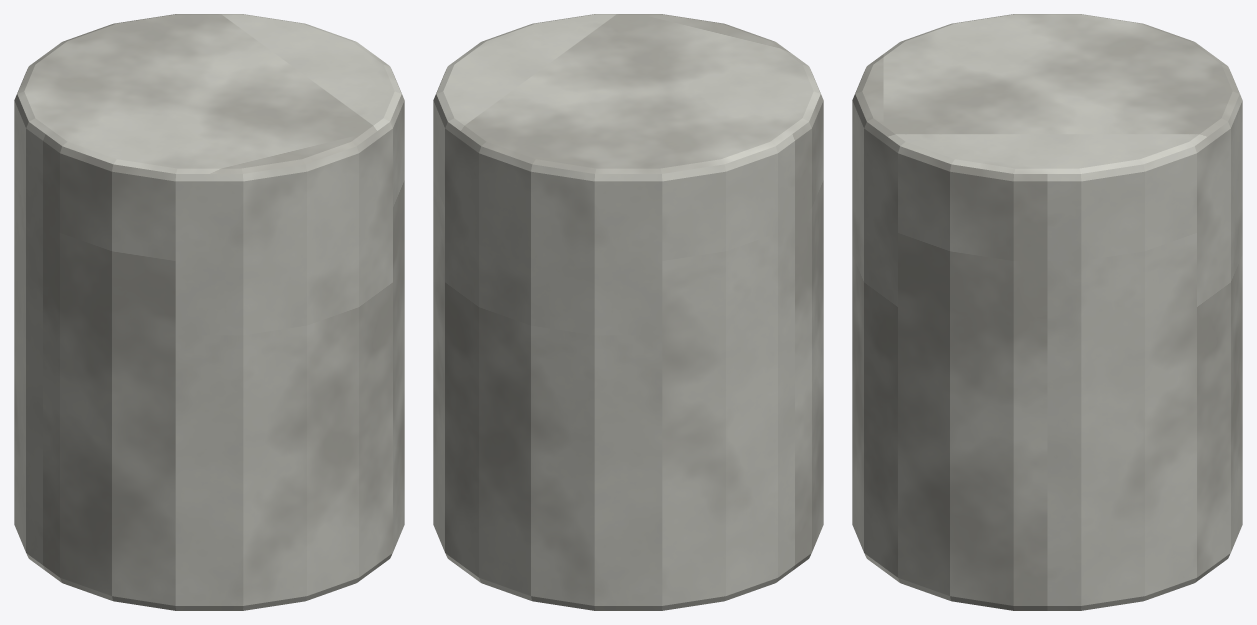
File: Y02_beakers_flasks_v1.glb
3 renders of one model, left to right at view 1: azimuth 30°, elevation 25°; view 2: azimuth 150°, elevation 25°; view 3: azimuth 270°, elevation 25°, orthographic.
Parts seen in each view (by area): view 1: Y02_beakers_flasks_v1; view 2: Y02_beakers_flasks_v1; view 3: Y02_beakers_flasks_v1.
Part boxes in pixels (box(x1,y1,x2,y2)): Y02_beakers_flasks_v1: box(14, 14, 404, 610); Y02_beakers_flasks_v1: box(433, 14, 823, 610); Y02_beakers_flasks_v1: box(852, 14, 1242, 610).
Bounding box in the file's own units: 0.2364 × 0.3 × 0.24.
Materials: 2 (2 with a texture image).
